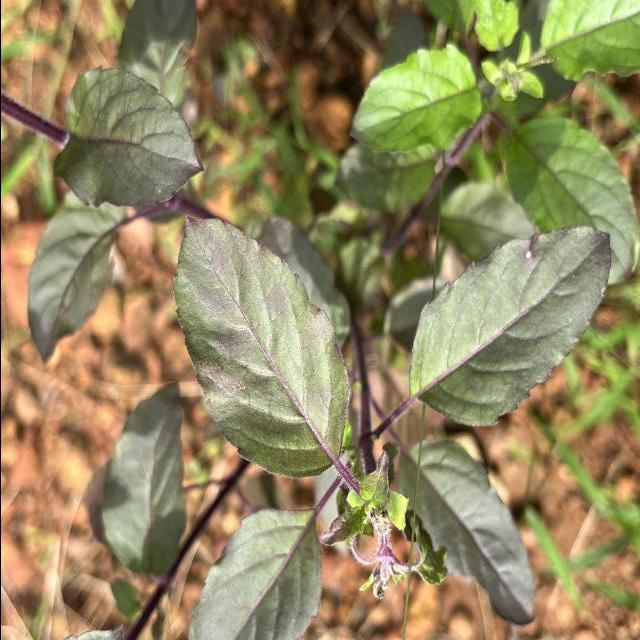Ocimum tenuiflorum: (168, 202, 354, 484)
